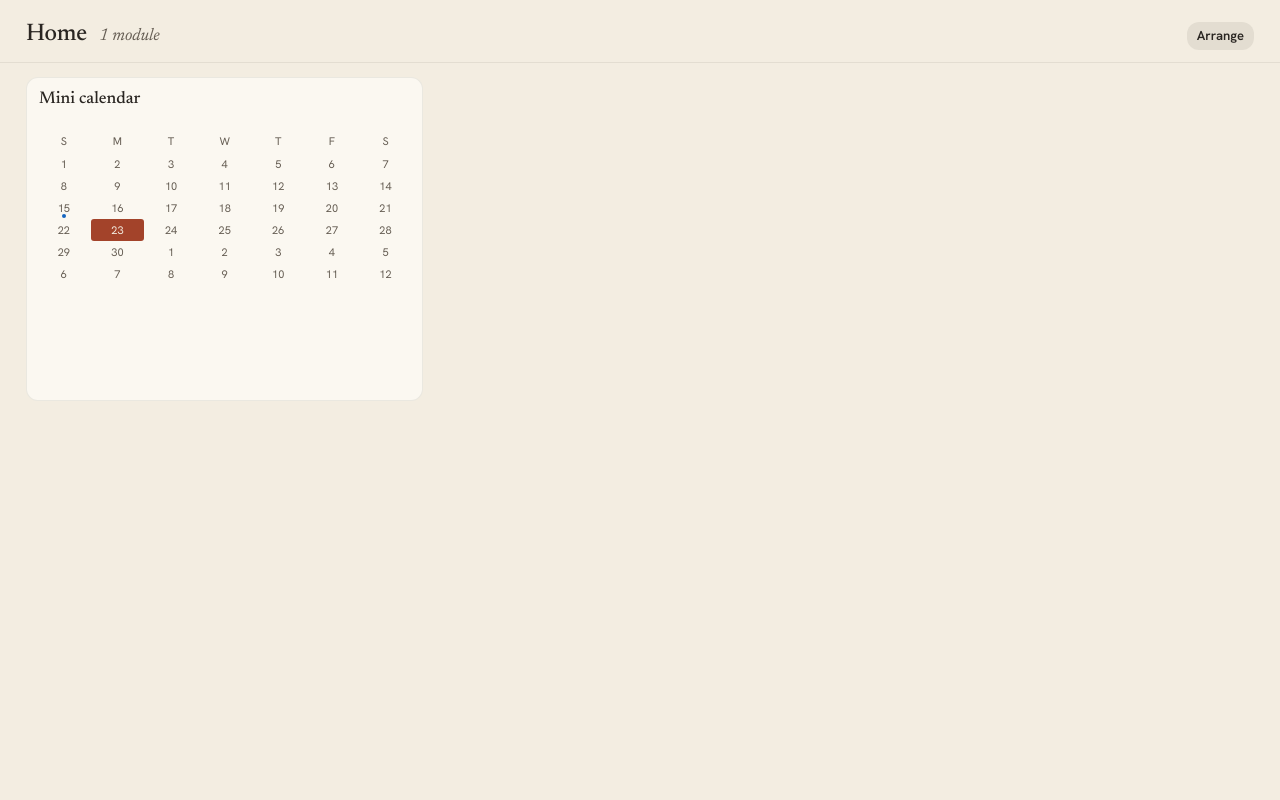
Scenario: mini calendar › closes the popover on Escape and returns focus to the day
Click the button "15": x=64, y=208 [37,197,91,219]
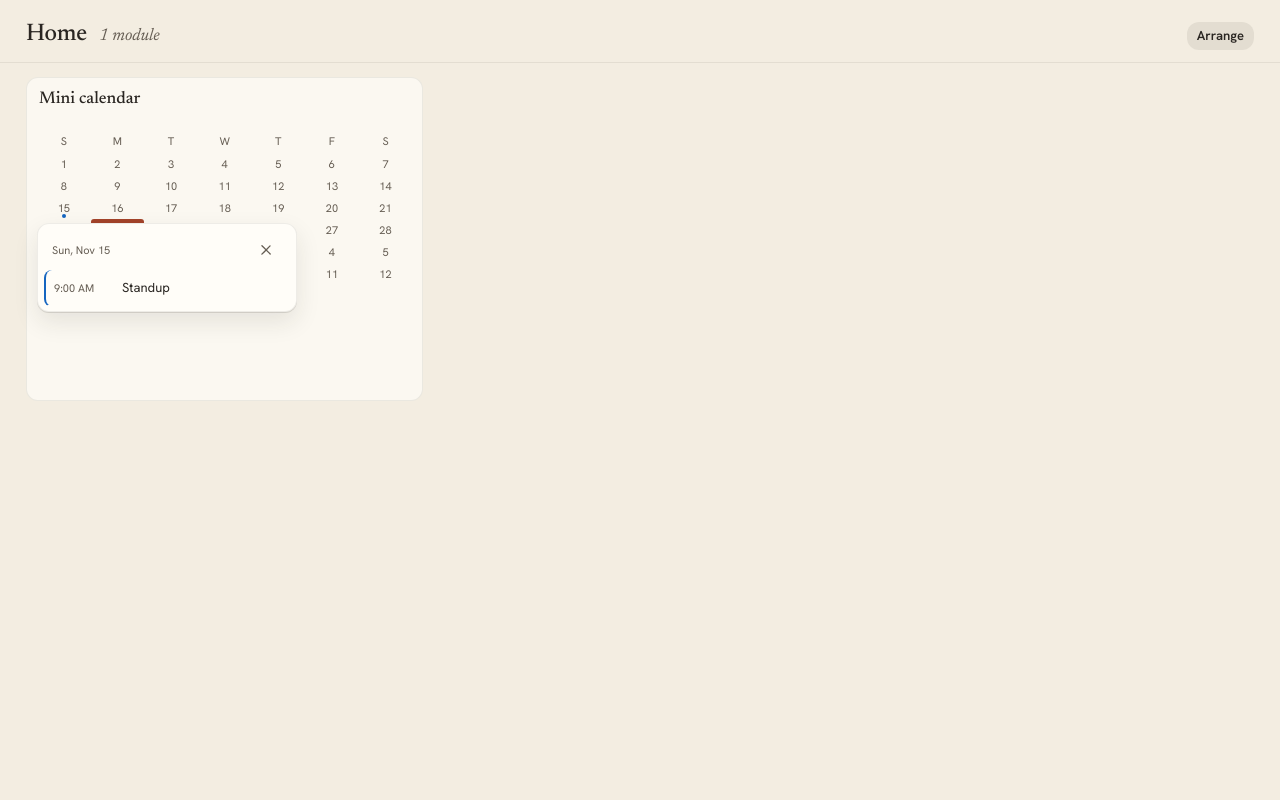
Press Escape
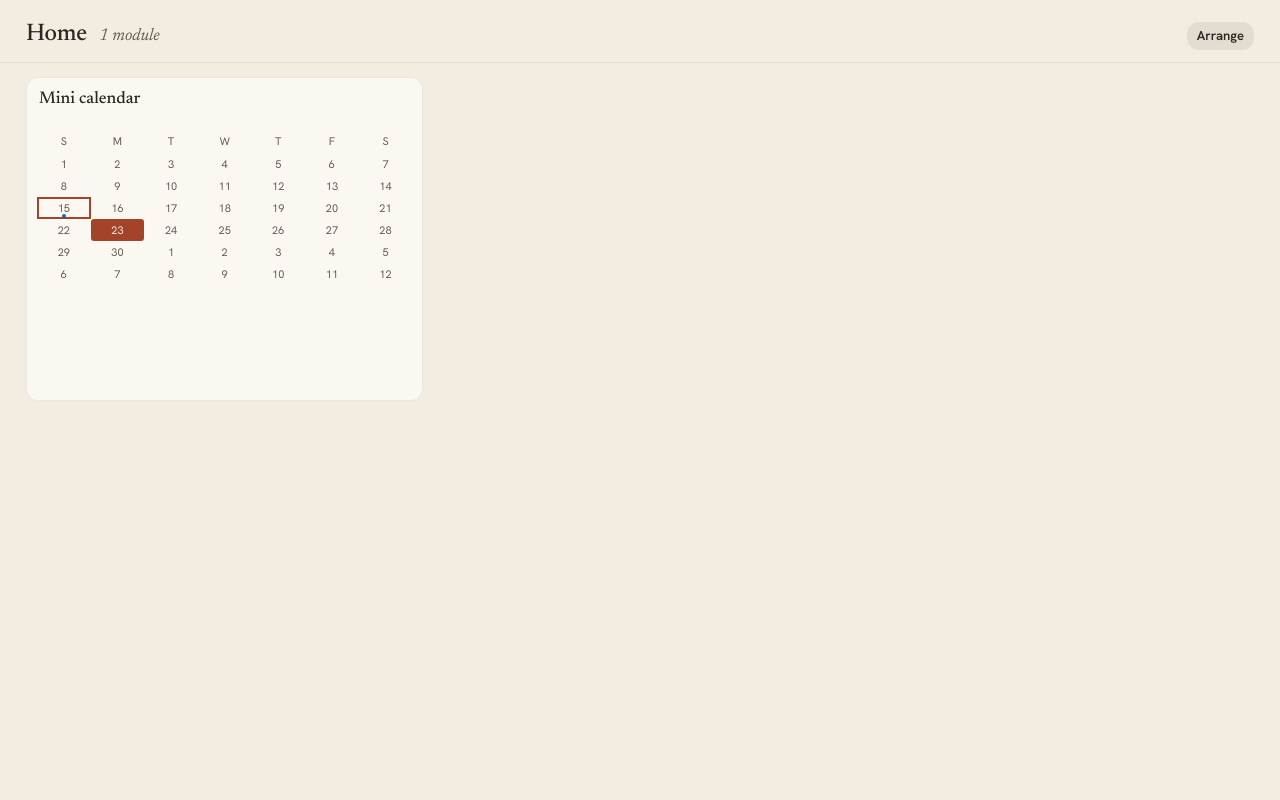
Result: the dialog is gone
